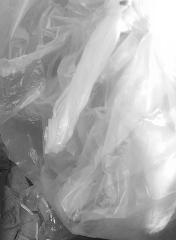plastic: (1, 1, 176, 183), (14, 184, 78, 240)
